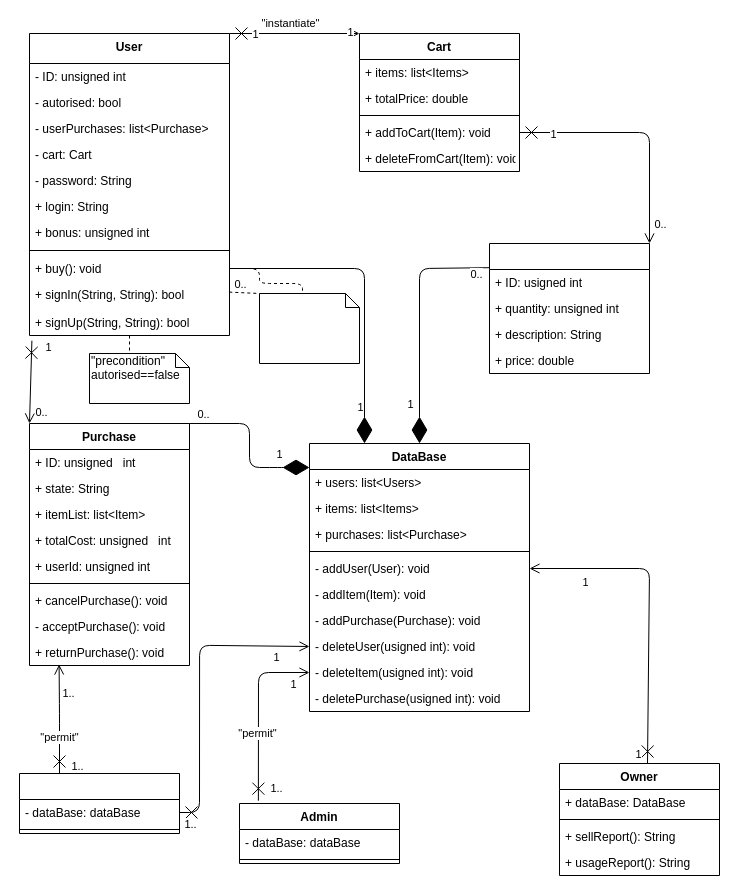
The diagram is 737 pixels wide and 895 high, and some of its shapes have lost their labels. Each missing label, with the box of its shape:
"precondition" autorised == true: (258, 292, 360, 364)
Editor: (18, 772, 180, 834)
Item: (488, 242, 650, 374)
